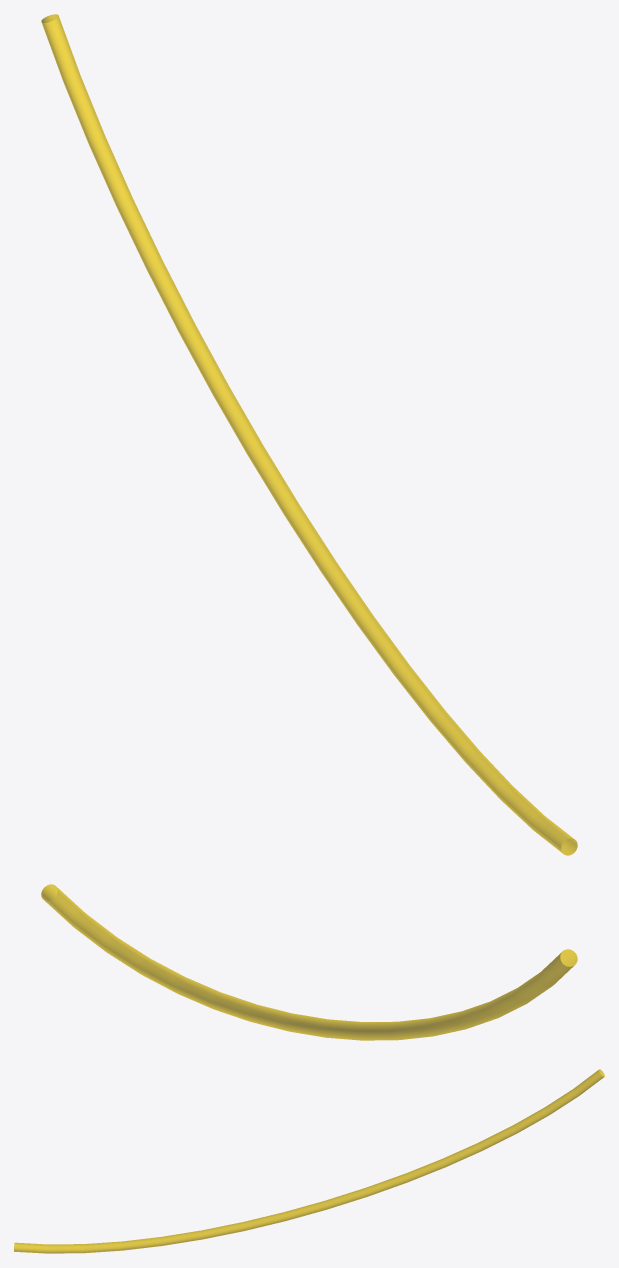
Rendered from Event_75125125_track_15.fbx.
3 renders of one model, top to bottom at view 1: azimuth 30°, elevation 25°; view 2: azimuth 210°, elevation 25°; view 3: azimuth 270°, elevation 25°, orthographic. The views are drawn at different scales.
Visible parts, largest first — view 1: Model; view 2: Model; view 3: Model.
Part boxes in pixels (x1=…): Model: x1=41, y1=14, x2=577, y2=855; Model: x1=41, y1=884, x2=577, y2=1040; Model: x1=14, y1=1069, x2=604, y2=1253.
Size of the model in its own units: 0.2099 by 0.9481 by 2.55.
